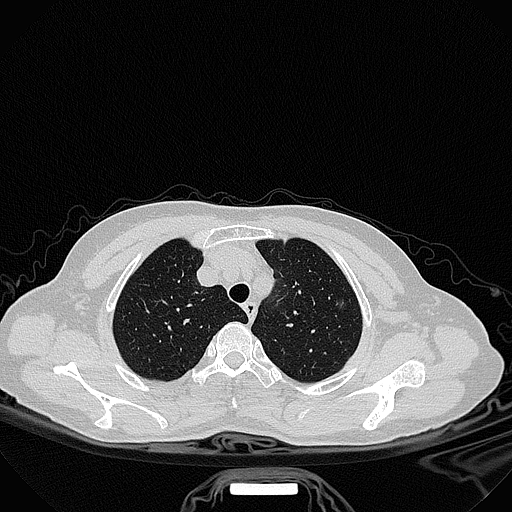nodule: (335, 297, 346, 312)
